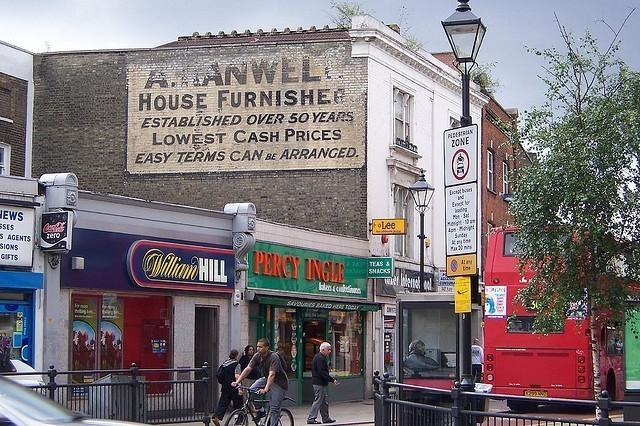bicycle: (224, 385, 297, 426)
bus: (487, 229, 640, 416)
car: (2, 376, 124, 422)
